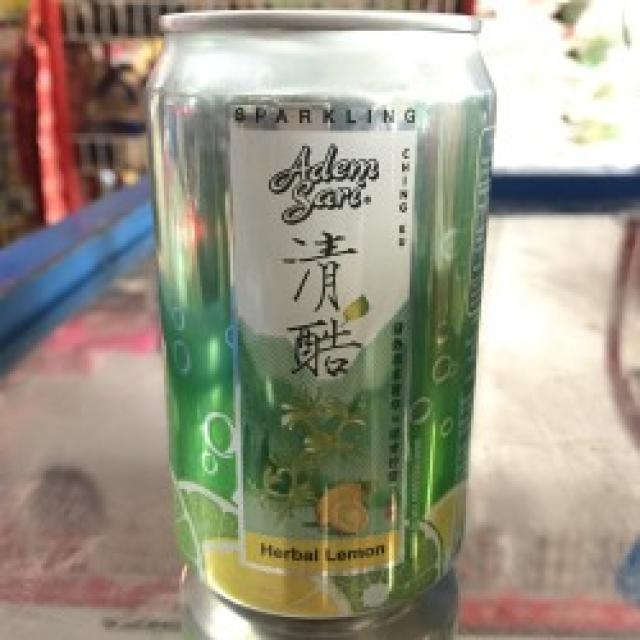ademsarikaleng: (140, 5, 497, 638)
